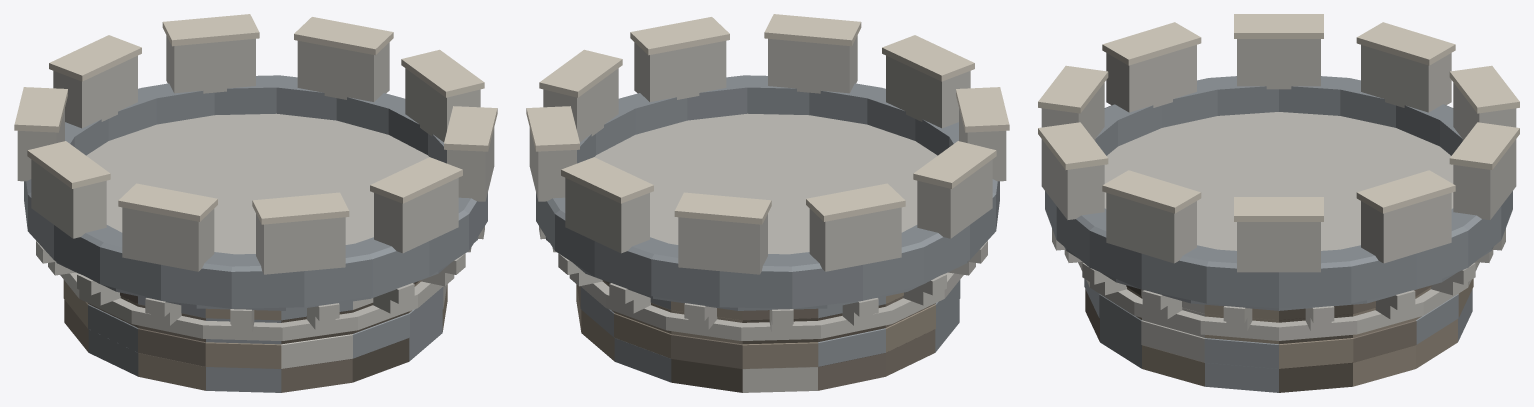
File: mdvl_castle_tower_round_top_01.glb
3 views of the same model, side by side, from view 1: azimuth 30°, elevation 25°; view 2: azimuth 150°, elevation 25°; view 3: azimuth 270°, elevation 25° (orthographic).
Parts seen in each view (by area): view 1: mdvl_castle_tower_round_top_01; view 2: mdvl_castle_tower_round_top_01; view 3: mdvl_castle_tower_round_top_01.
Boxes of the visible parts, x1,y1,x2,y2 form: mdvl_castle_tower_round_top_01: (14,14,497,392); mdvl_castle_tower_round_top_01: (526,14,1009,392); mdvl_castle_tower_round_top_01: (1038,14,1519,392).
Size of the model in its own units: 4.44 by 2.01 by 4.48.
Materials: 1 (1 with a texture image).
